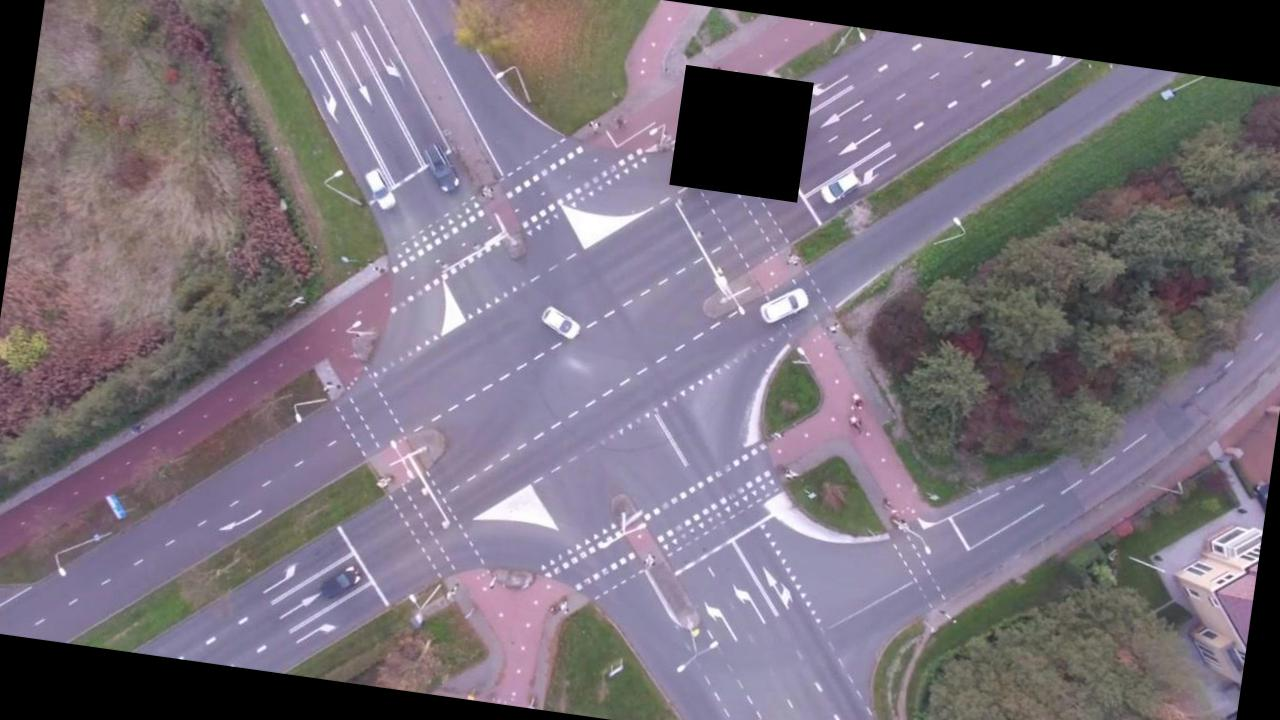vehicle: (417, 141, 465, 193), (759, 282, 810, 330), (317, 560, 362, 603), (358, 166, 399, 212), (818, 166, 861, 208), (538, 304, 584, 342)
